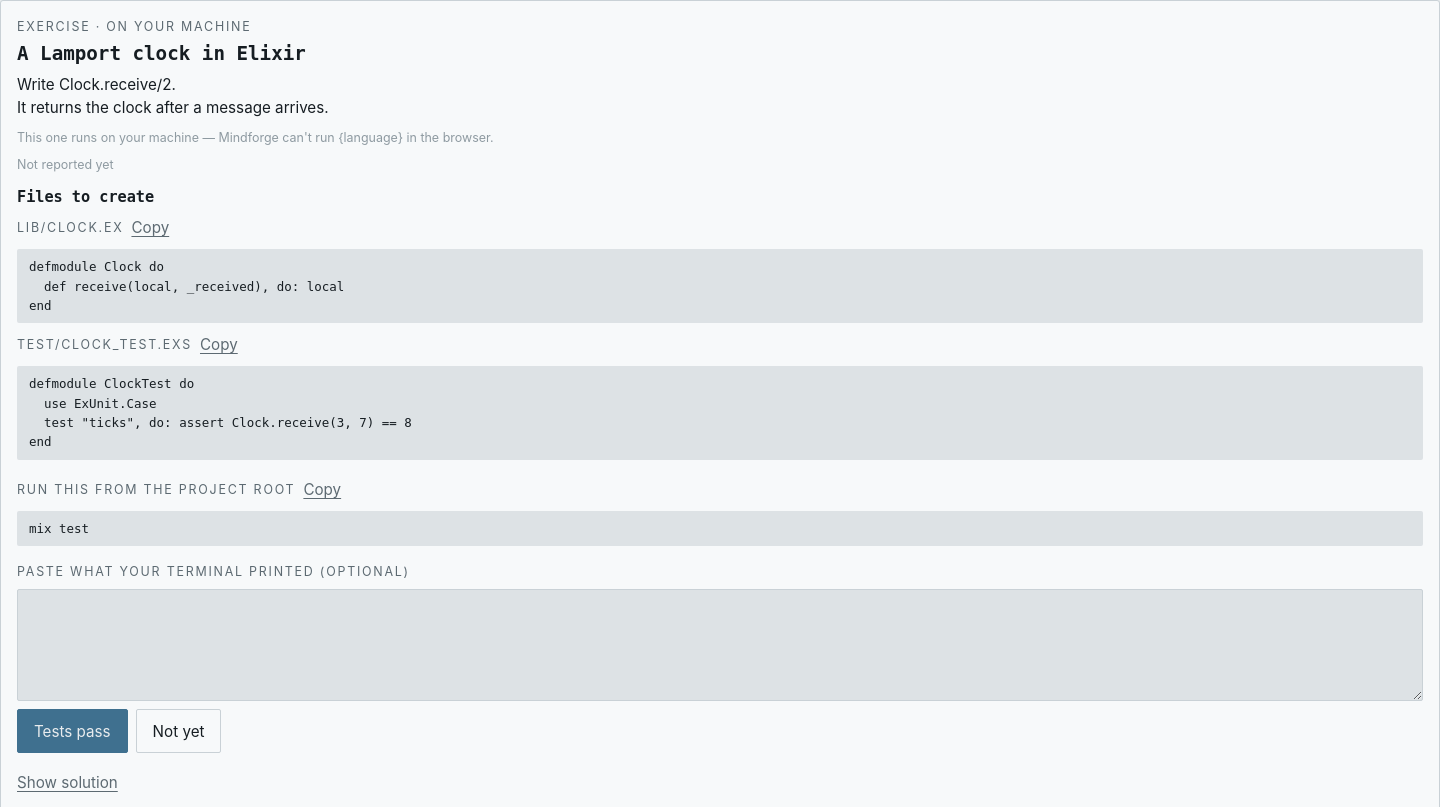
Test: a task exercise › shows the server's words when a report does not save
Click the button "Tests pass" at [72, 732], box [17,710,128,754]
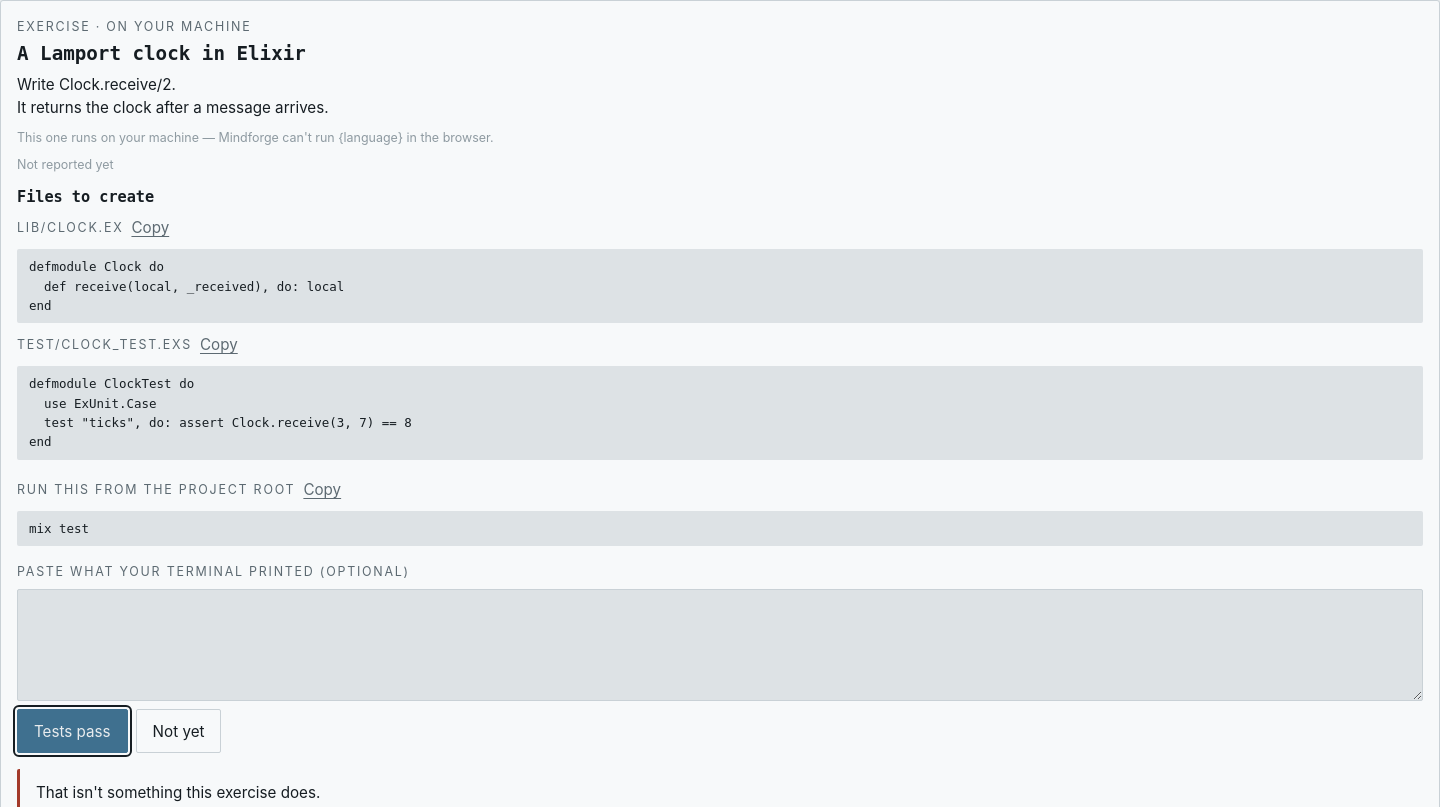
Now the text "That isn't something this exercise does." is shown, box [36,784,320,802]
